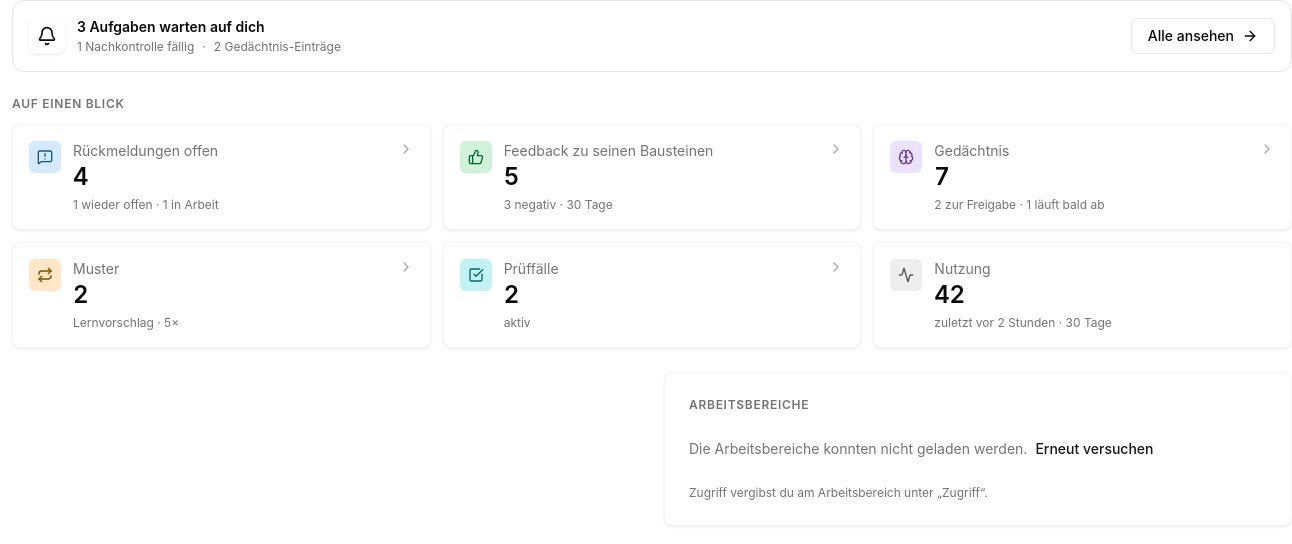
it: AgentOverview (Navigation W2-b, Spec §3.2) › Arbeitsbereiche leer und Fehler mit „Erneut versuchen“
Expected: the text "Die Arbeitsbereiche konnten nicht geladen werden." is shown, [689, 439, 1027, 459]
Click the button "Erneut versuchen": (1094, 449) [1035, 429, 1154, 469]
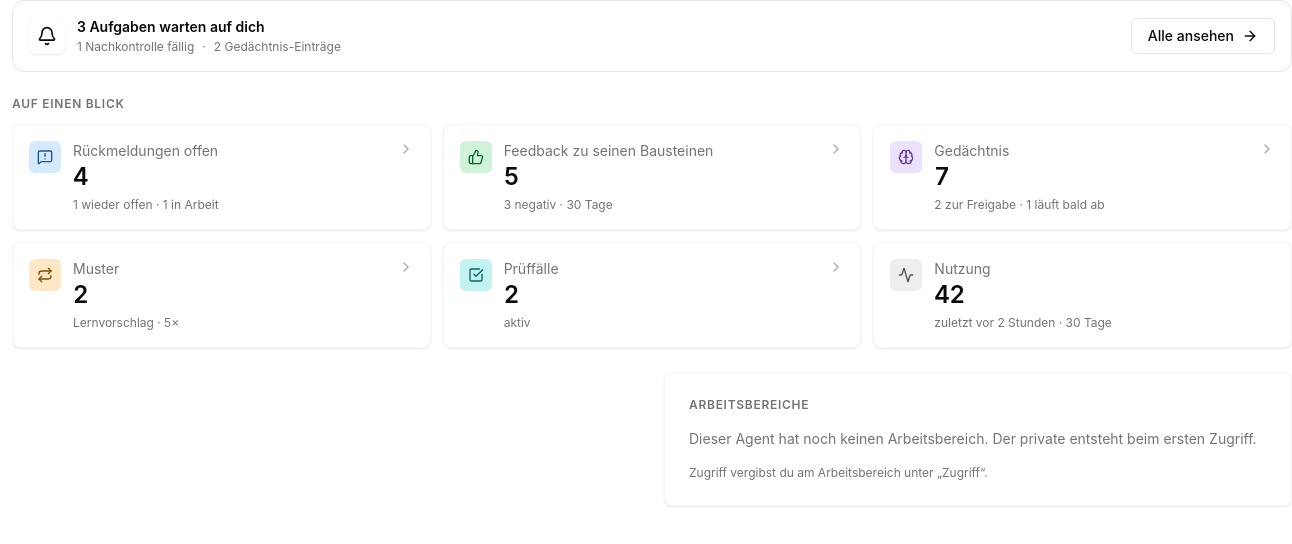
Result: the text with test id "agent-work-areas-empty" shows "Dieser Agent hat noch keinen Arbeitsbereich. Der private entsteht beim ersten Zugriff." at [689, 430, 1257, 447]
